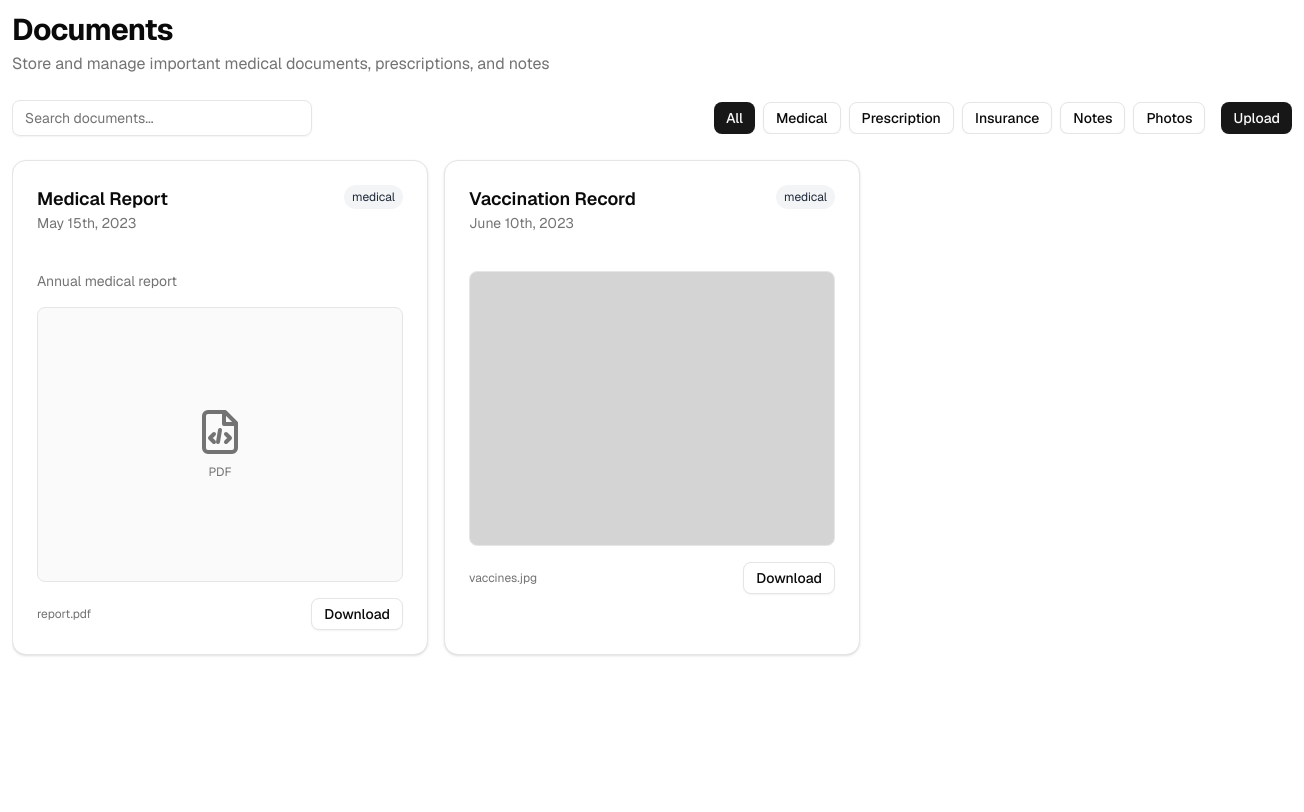
Test: Documents Page › filters documents by type when clicking filter buttons
Expected: the text "Medical Report" is shown, [37, 185, 168, 213]
Expected: the text "Vaccination Record" is shown, [469, 185, 636, 213]
// Click on prescription filter button
Click the button "Prescription": [901, 118] box [849, 102, 954, 134]
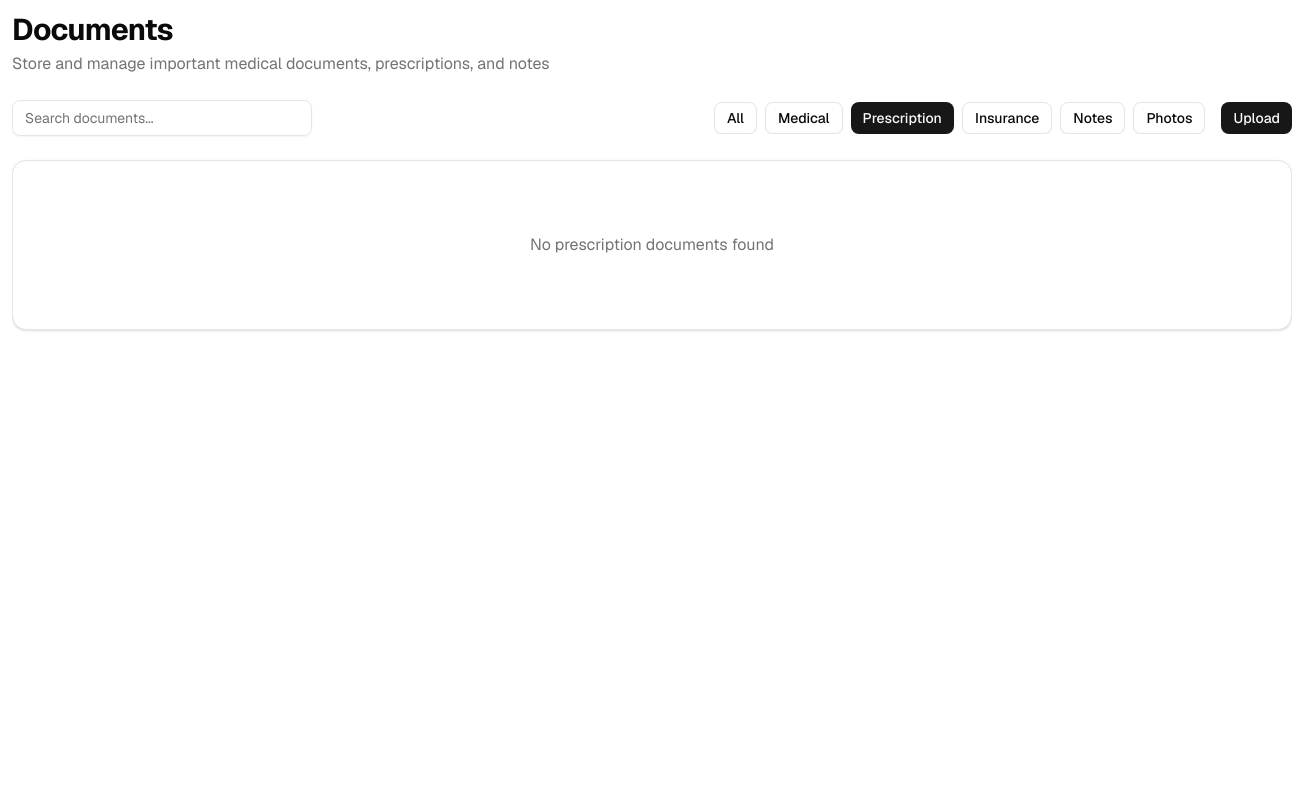
Expected: the text "No prescription documents found" is shown, [530, 234, 774, 255]
// Click on medical filter button
Click the button "Medical": [804, 118] box [765, 102, 843, 134]
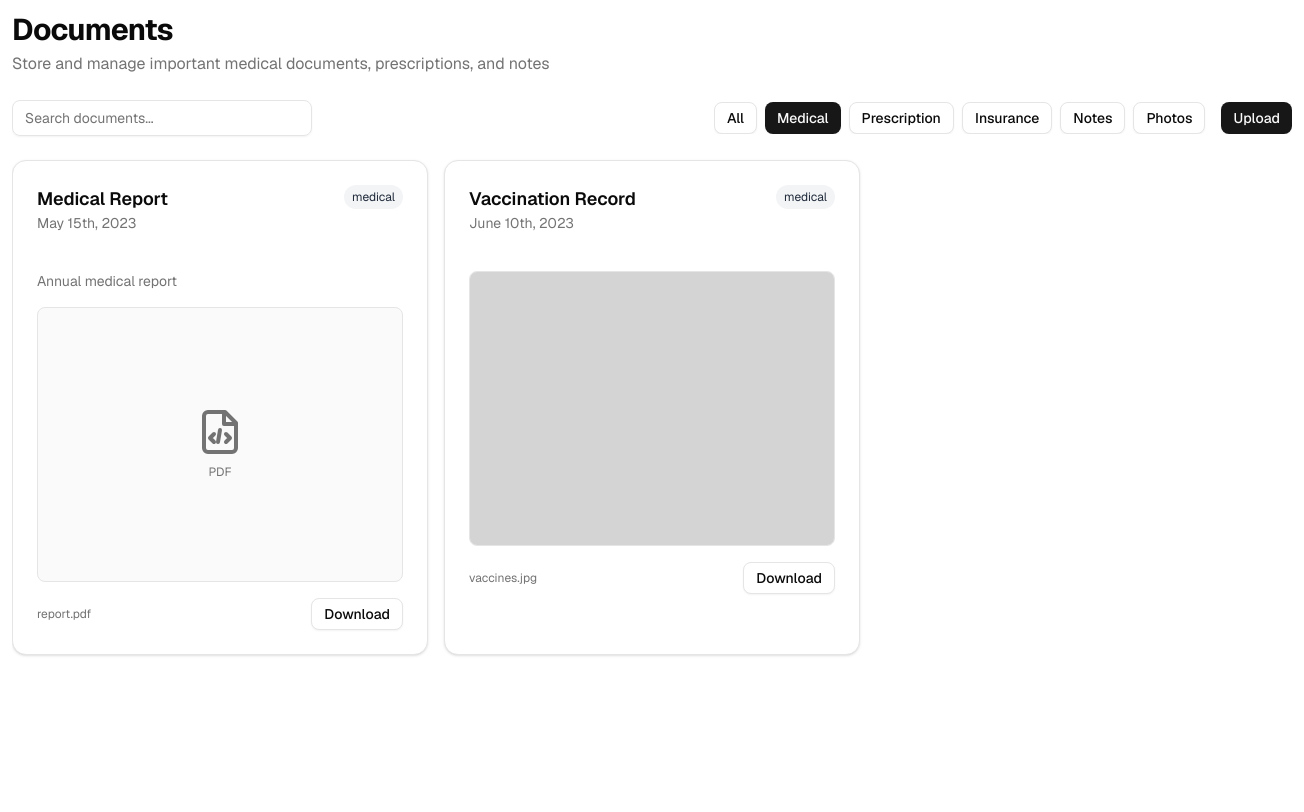
Expected: the text "Medical Report" is shown, [37, 185, 168, 213]
Expected: the text "Vaccination Record" is shown, [469, 185, 636, 213]
